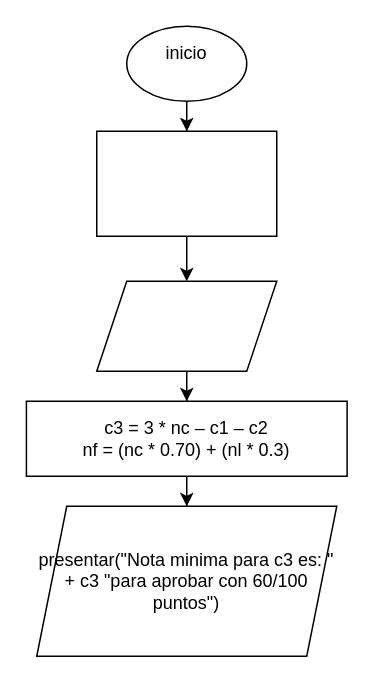
Some shapes in this 374 by 683 pixel diagram are drawn without their labels. The box of each missing label's shape, as (x1, y1, x2, y2) in pixels:
c1 = 0.0 c2 = 0.0 c3 = 0.0 nc = 0.60 nl = 0.0: (95, 130, 277, 236)
leer c1 leer c2 leer nl: (95, 280, 277, 371)
